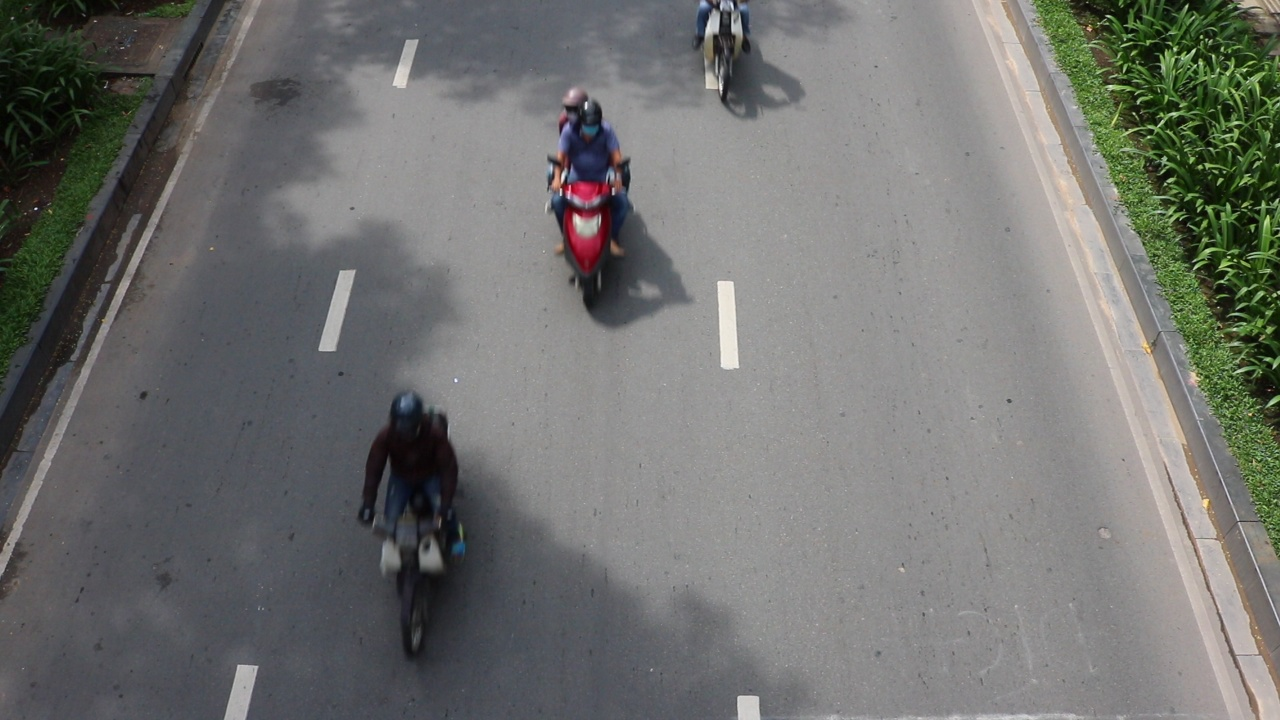motorcycle: (363, 487, 462, 655), (547, 157, 630, 305)
